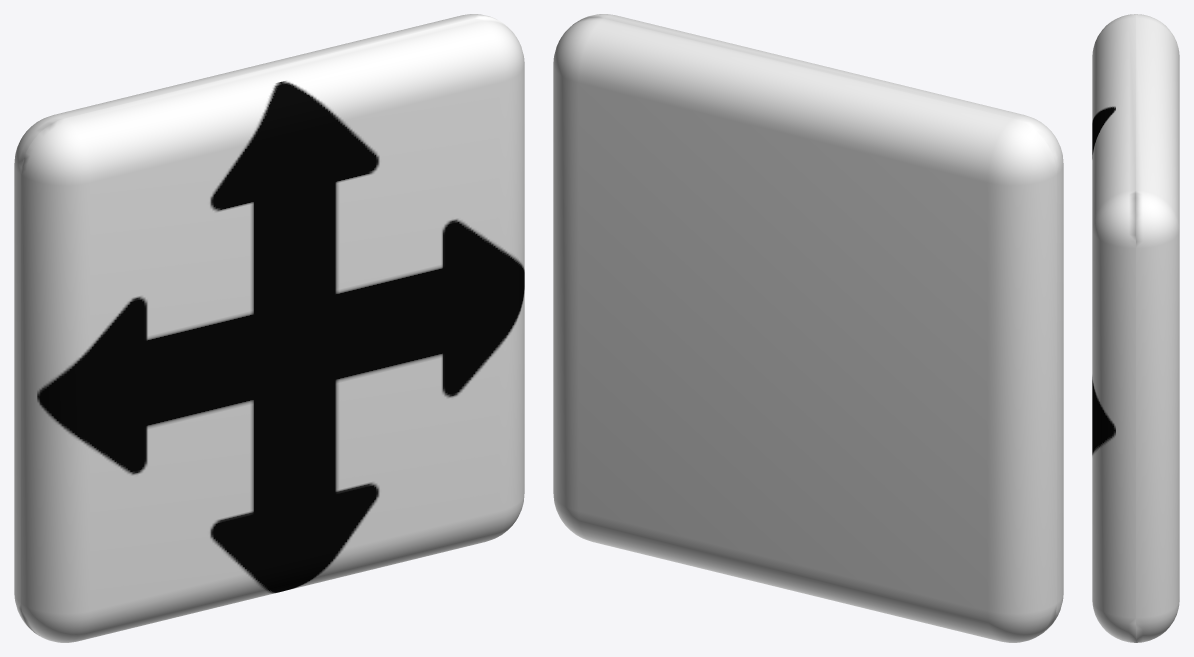
File: move.glb
The picture shows the model from 3 angles, left to right: view 1: azimuth 30°, elevation 25°; view 2: azimuth 150°, elevation 25°; view 3: azimuth 270°, elevation 25°; orthographic projection. The views are drawn at different scales.
Visible parts, largest first — view 1: Cube; view 2: Cube; view 3: Cube.
Part boxes in pixels (left/top/right/bottom): Cube: left=14, top=14, right=524, bottom=642; Cube: left=553, top=14, right=1063, bottom=642; Cube: left=1092, top=14, right=1179, bottom=642.
Bounding box in the file's own units: 2 × 2 × 0.3535.
1 material, 1 textured.
